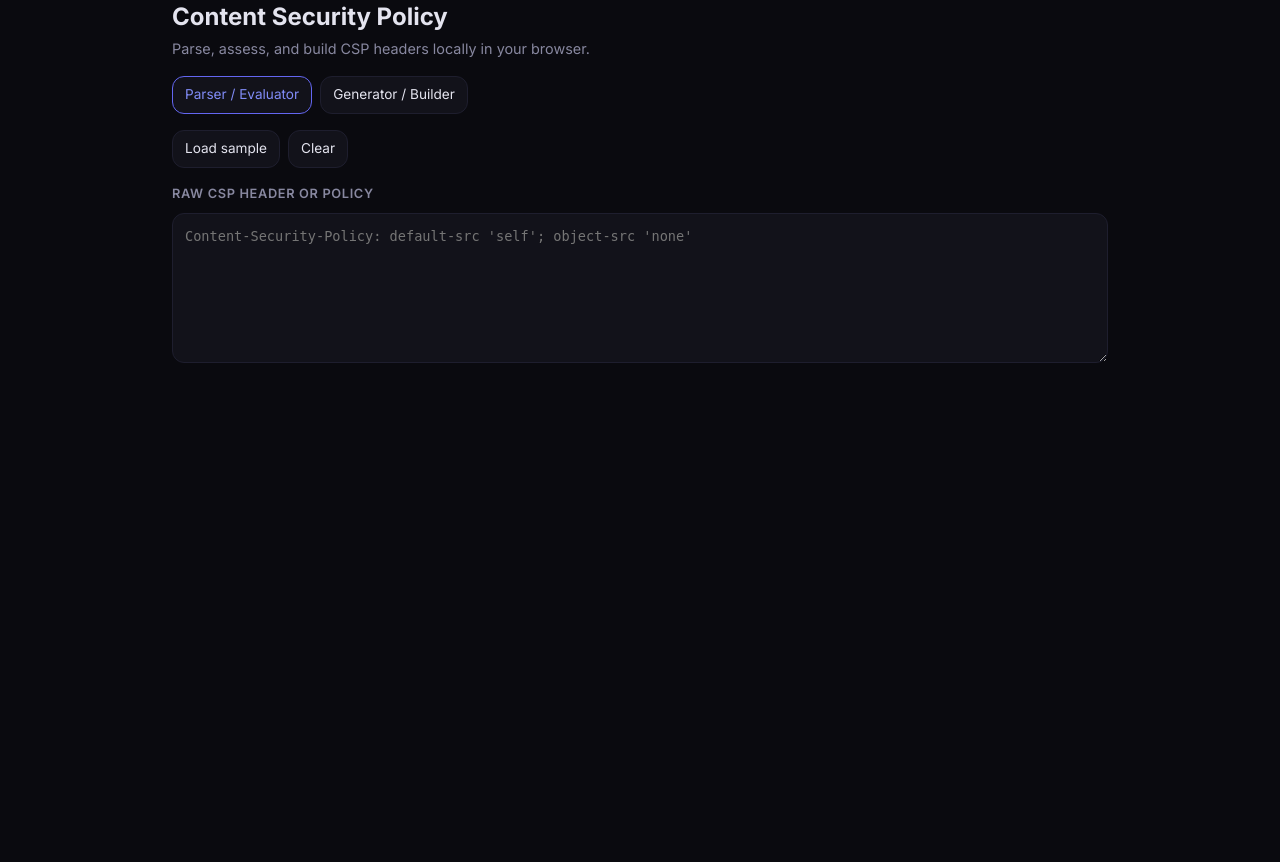
Test case: CspTool › loads builder presets and clears generated output
What coordinates should you click on to do the following:
click the tab "Generator / Builder"
I would click on:
 (394, 95)
Its box is [320,76,468,114].
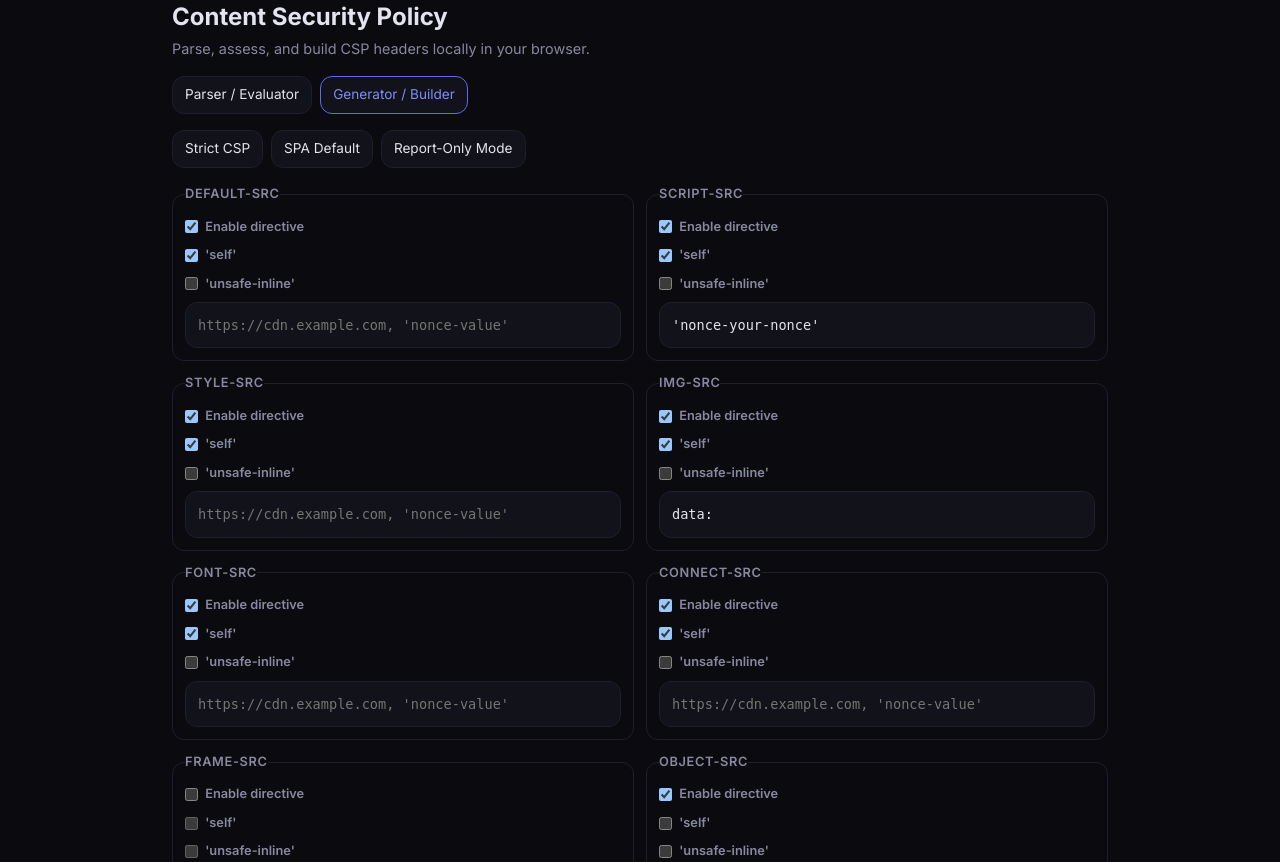
What coordinates should you click on to do the following:
click the button "SPA Default"
I would click on:
 (322, 149)
Its box is [271,130,373,168].
(page scrolled)
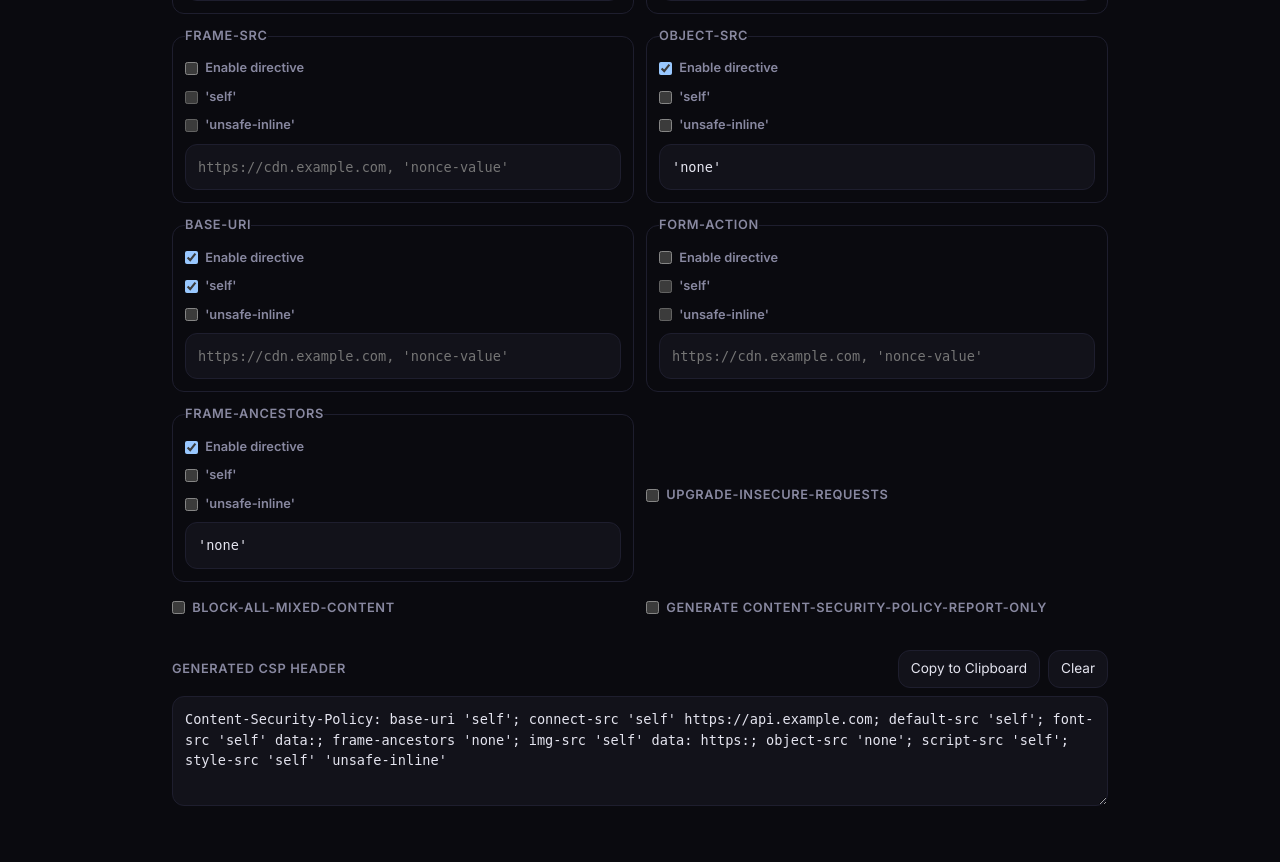
What coordinates should you click on to do the following:
click the button with aria-label "Clear CSP builder"
I would click on:
 (1078, 669)
Its box is [1048,650,1108,688].
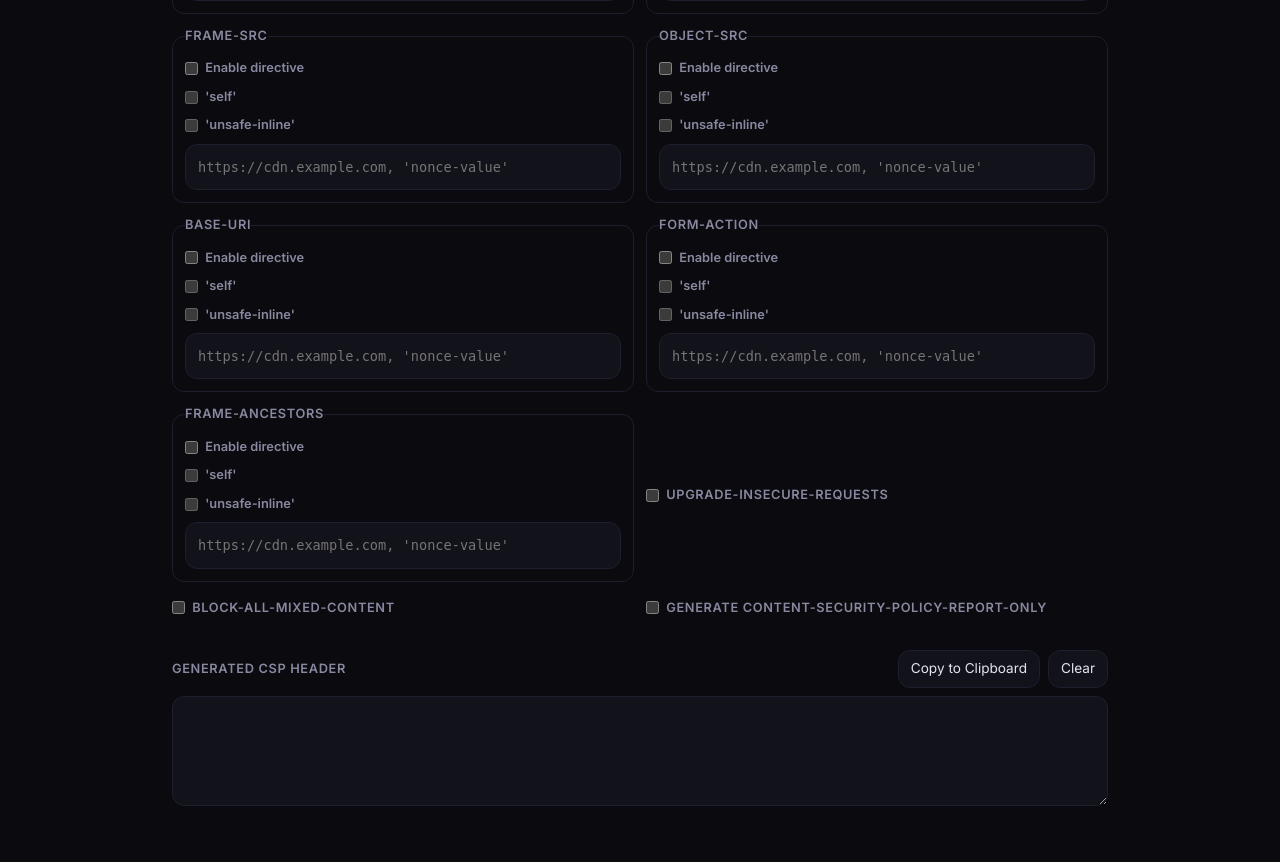
Result: the text box named "Generated CSP header output" is empty at [172,696,1108,806]
